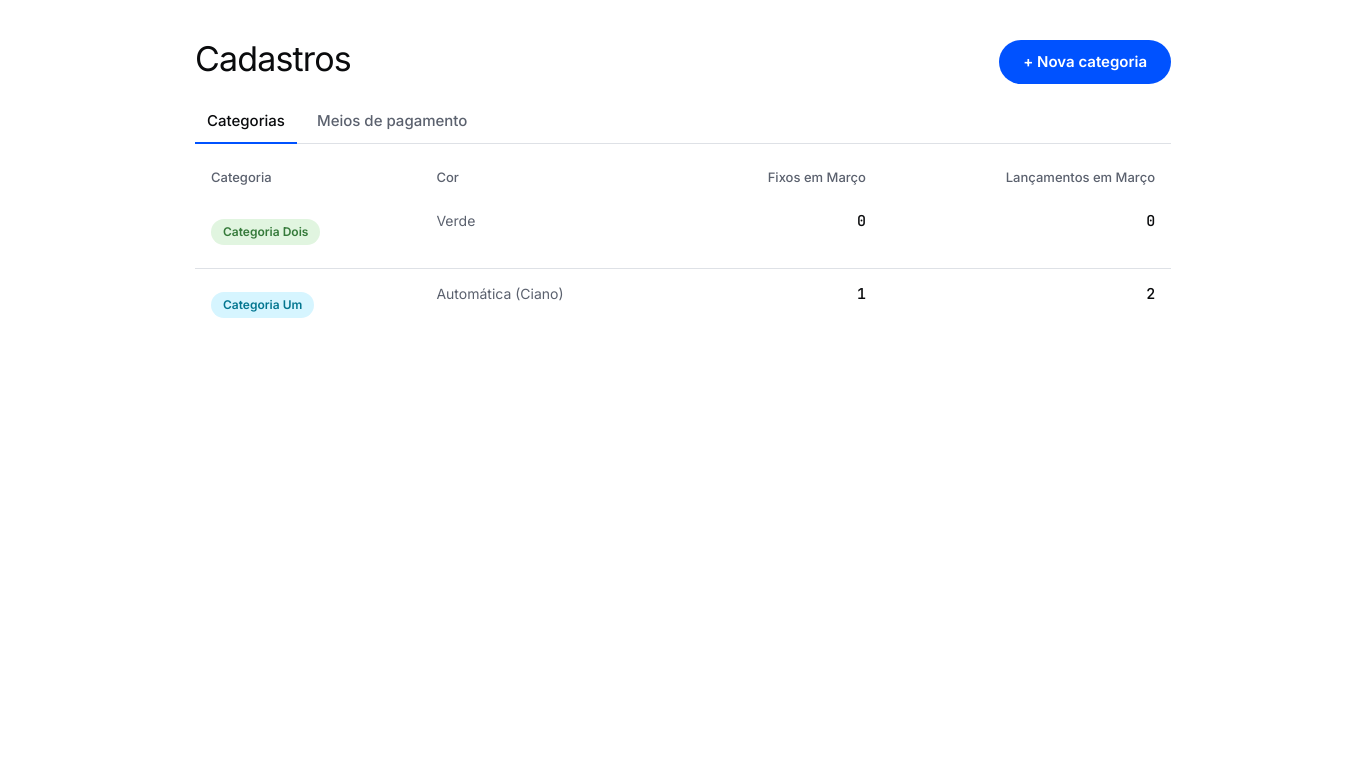
Scenario: "+ Nova categoria" (CADCOL-05, AC 1; CADCOL-11, AC 4) › fecha a categoria aberta, mostra o formulário, tira `?categoria=` e leva o foco ao título
The width and height of the screenshot is (1366, 768).
Step 1. Click the button "Categoria Um" → (263, 304), box [211,282,314,326]
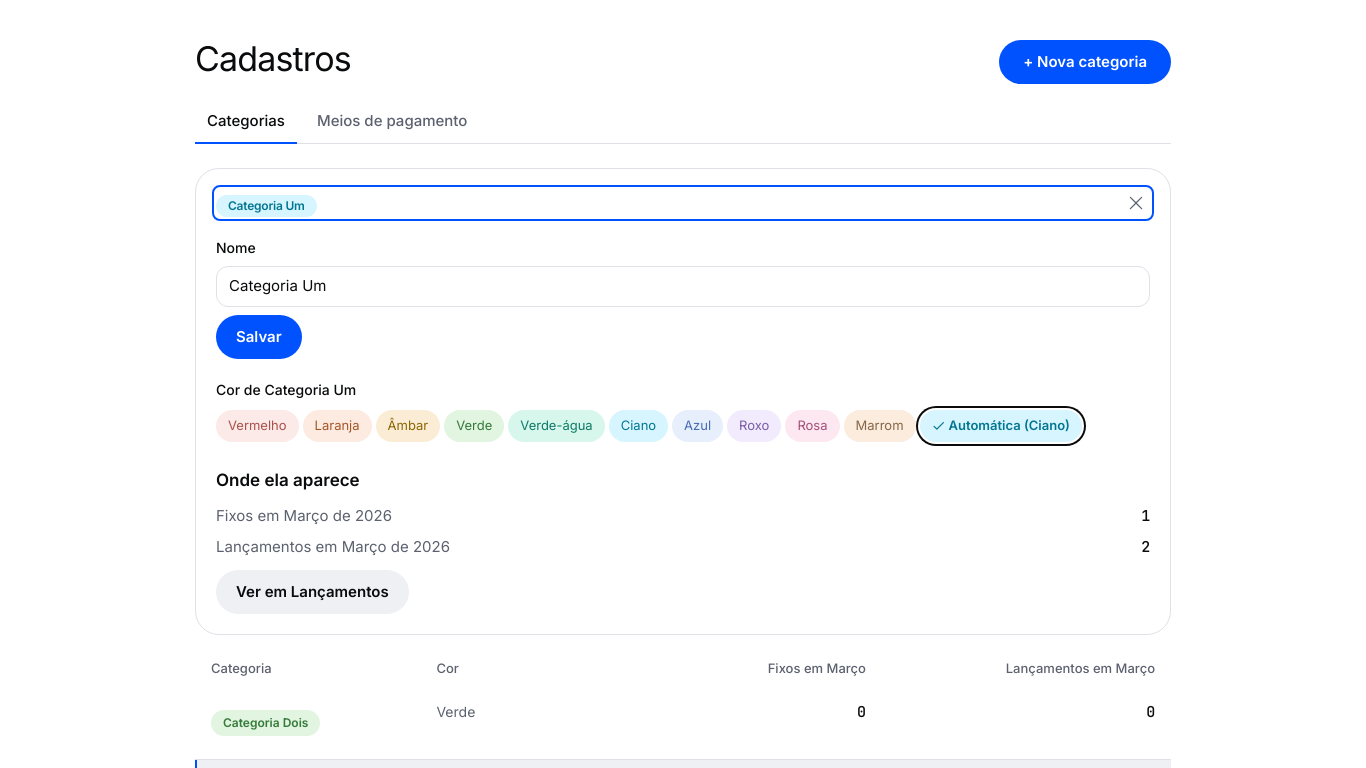
Step 2. Click the button "+ Nova categoria" → (1085, 62), box [999,40,1171,84]
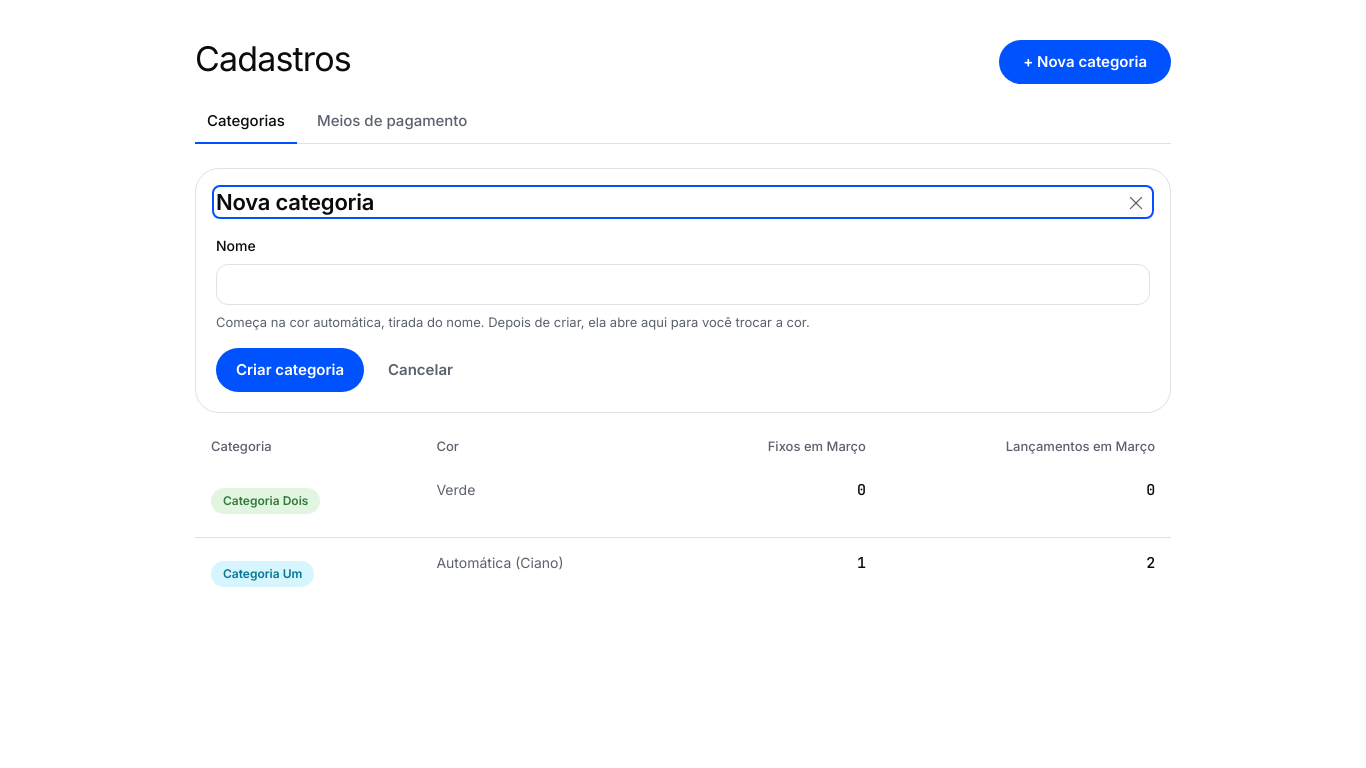
expect the heading "Nova categoria" is shown: met, box [216,189,374,215]
expect the form named "Nova categoria" is shown: met, box [216,235,1150,392]
expect the button "Categoria Um" is collapsed: met, box [211,552,314,596]
